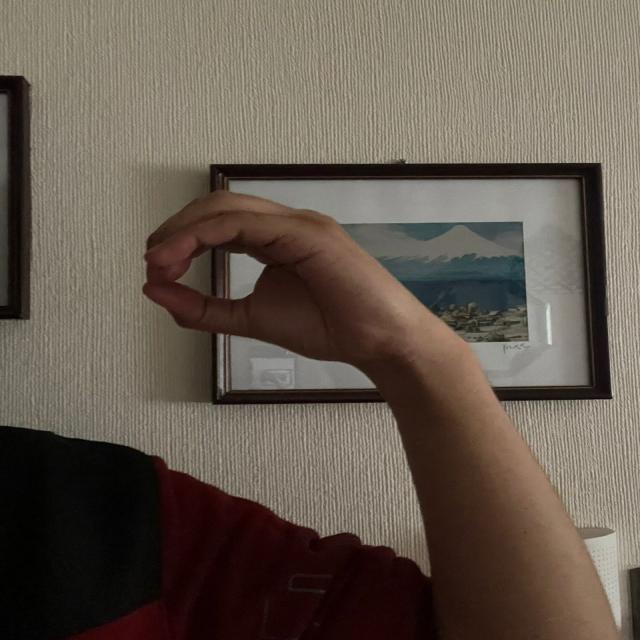O: (129, 184, 416, 372)
